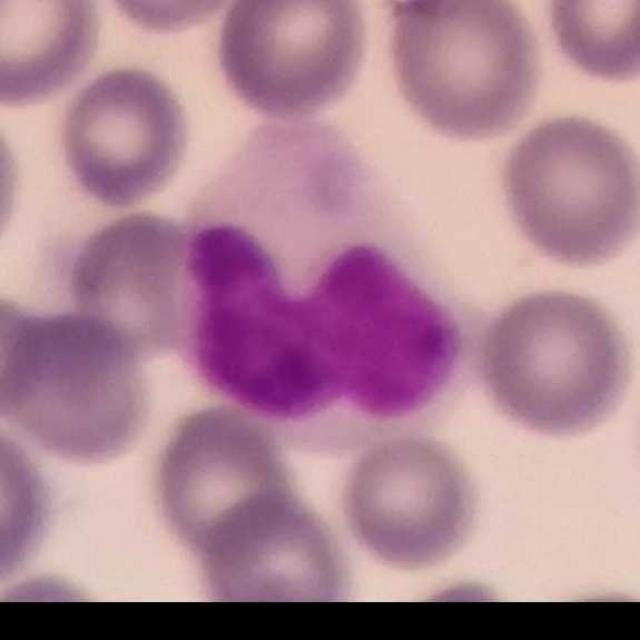Monocyte: (178, 113, 486, 453)
RBC: (472, 281, 639, 442), (1, 307, 159, 469), (378, 0, 549, 146), (492, 106, 640, 274), (145, 398, 295, 561), (60, 204, 208, 355), (52, 60, 197, 212), (335, 429, 488, 573), (210, 0, 377, 122), (192, 485, 358, 600), (0, 0, 109, 109), (0, 413, 62, 586), (536, 0, 640, 88), (0, 282, 55, 428), (88, 0, 263, 36), (0, 99, 29, 273), (375, 572, 538, 602), (1, 568, 133, 602), (621, 334, 640, 513), (509, 580, 639, 602)
